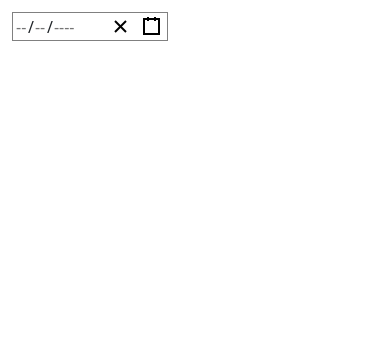
Scenario: DatePicker › handles opening Calendar component when focusing on an input inside properly › opens Calendar component when focusing on an input inside by default
This screenshot has width=379, height=340.
Step 1. Focus the number field named "day" → (40, 26), box [34,13,47,40]
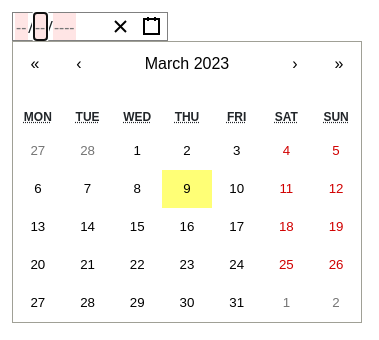
Result: the element with class "react-calendar" is shown
